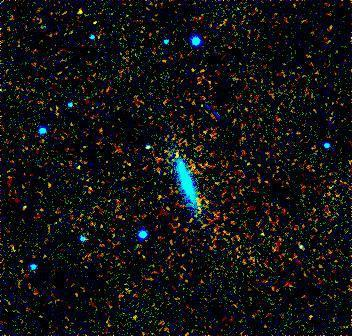star: (157, 139, 187, 169)
